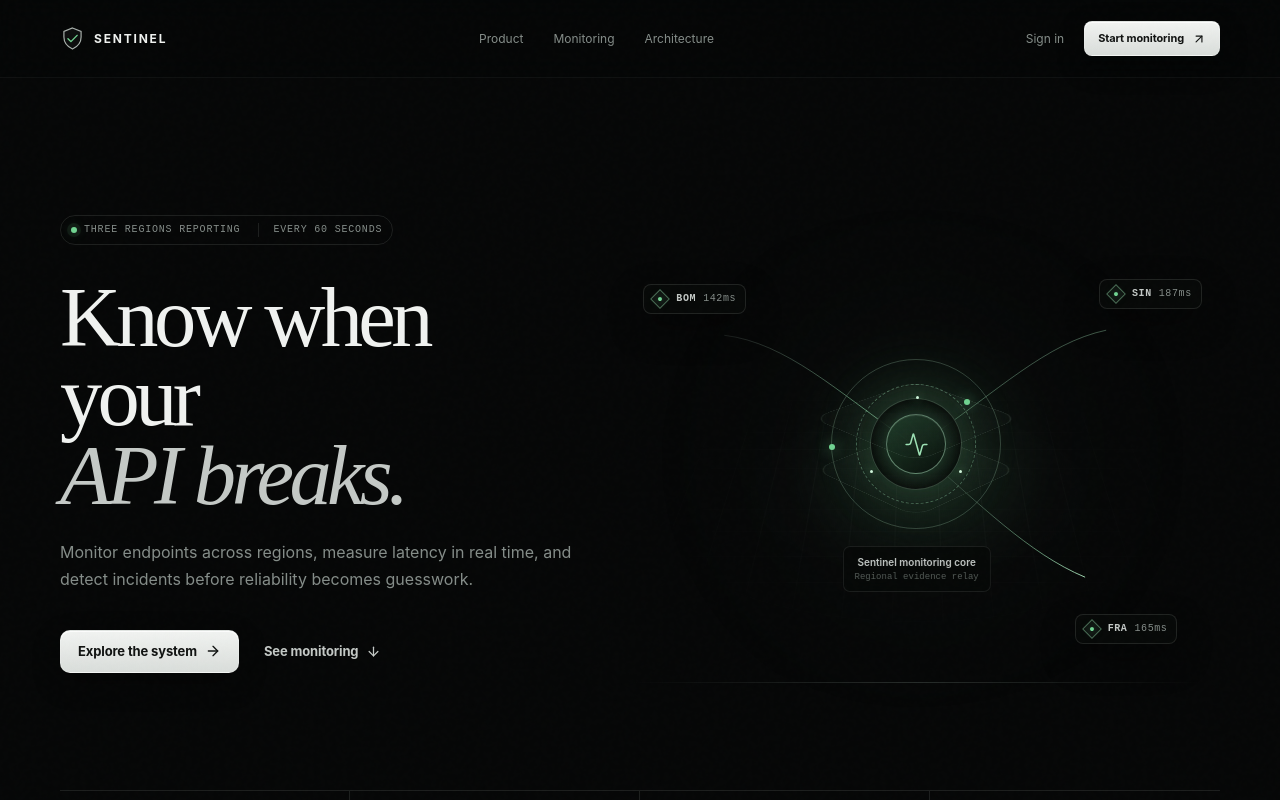
it: Sentinel authentication routes › navigates from Start monitoring to /register
Click the link "Start monitoring" at (1152, 38), box [1084,21,1220,56]
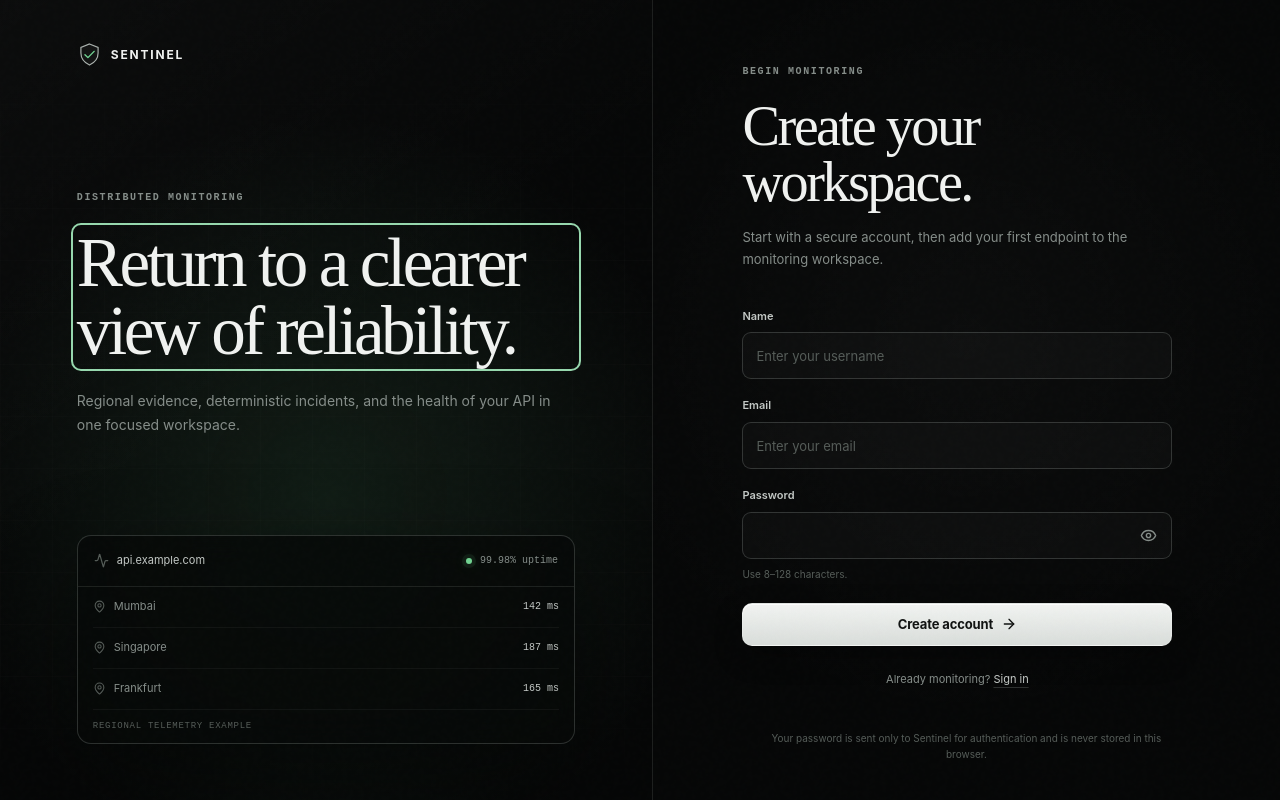
Now the heading "Create your workspace." is shown, box [742,95,979,213]
